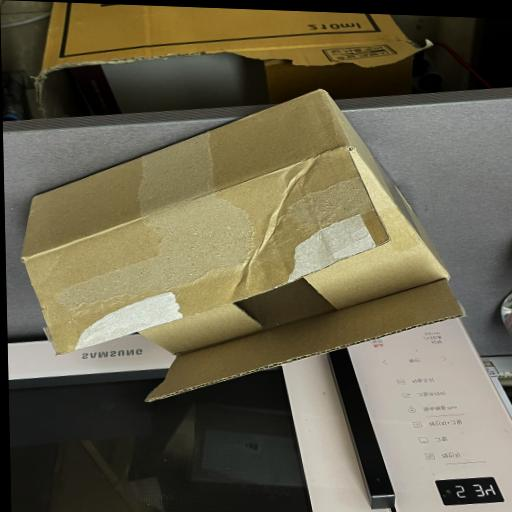box: (20, 89, 467, 403)
opened: (21, 147, 467, 403)
